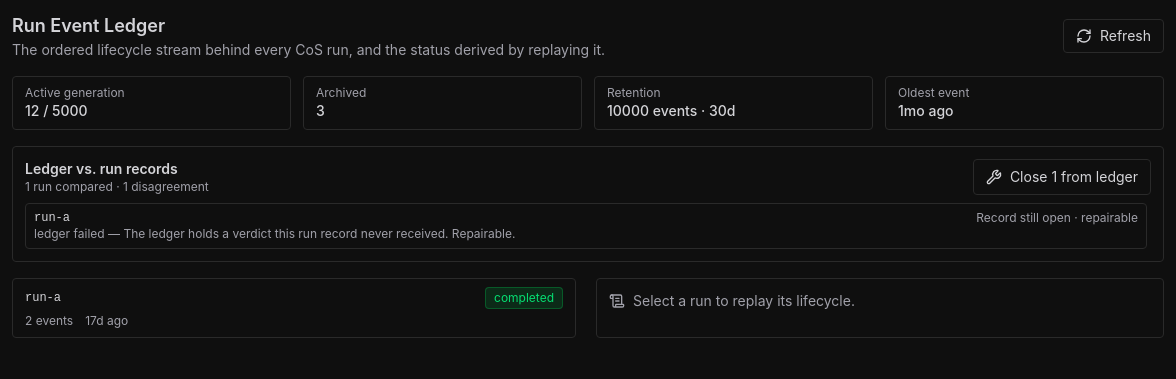
Test case: RunEventsTab — reconciliation panel › confirms before closing any record, and reloads the ledger afterwards
This screenshot has width=1176, height=379.
Click the button "Close 1 from ledger" at (1062, 177), box [973, 159, 1151, 195]
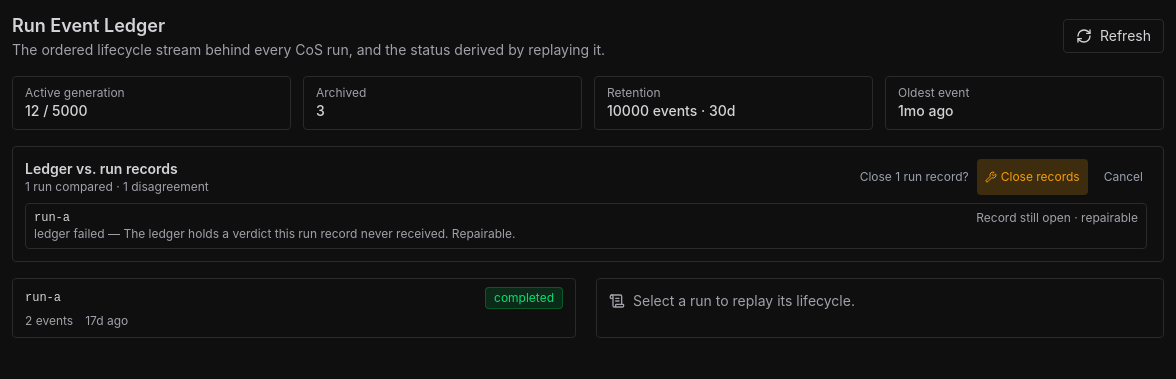
Click the button "Close records" at (1032, 177), box [977, 159, 1088, 195]
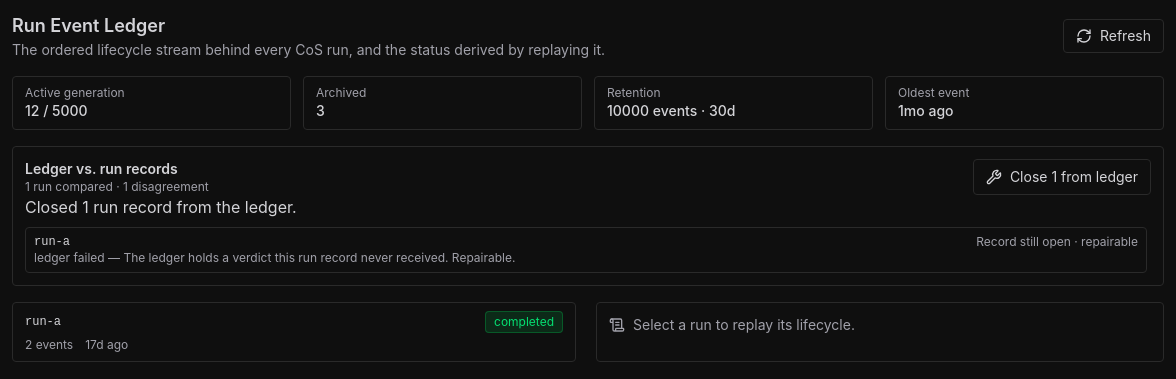
Now the text "Closed 1 run record from the ledger." is shown, box [25, 197, 297, 217]
